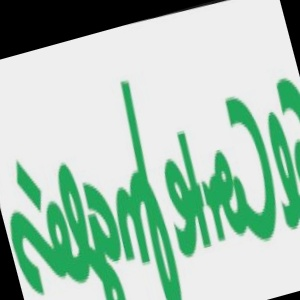corte_ingles: (278, 4, 291, 45)
